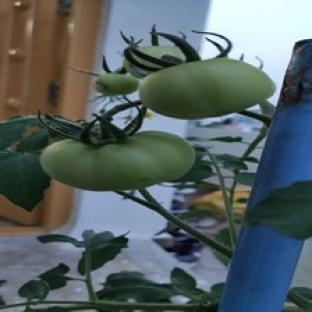Tomato: (41, 131, 194, 190), (140, 59, 275, 119), (94, 73, 139, 96), (137, 46, 185, 62)
